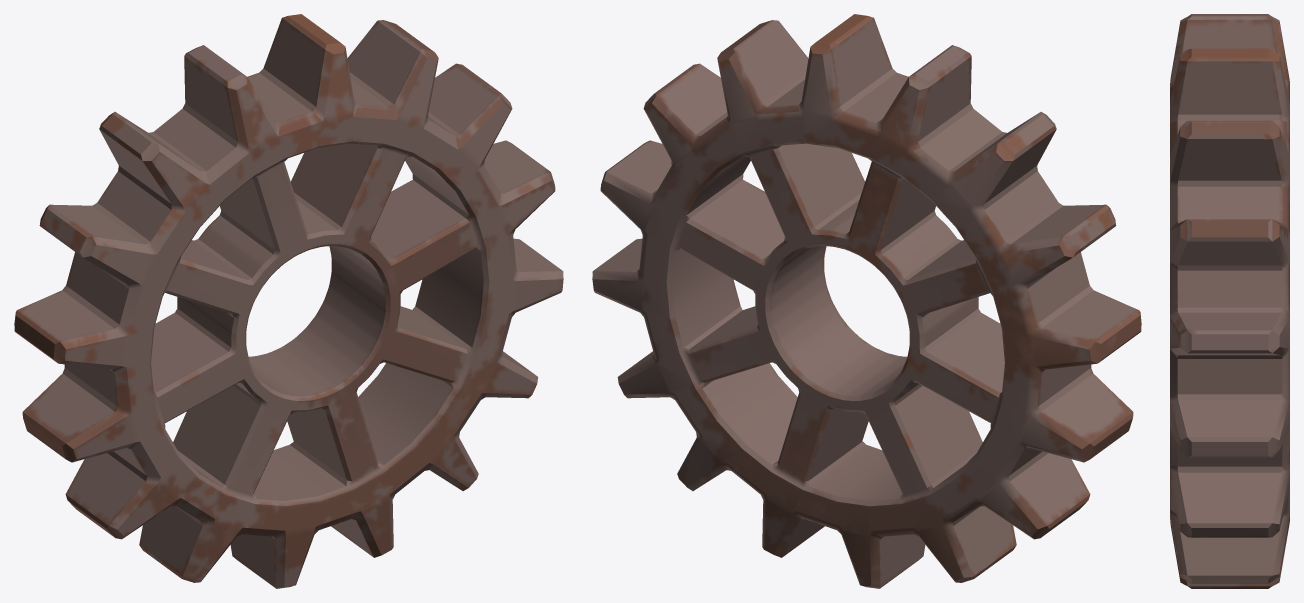
The model's file is rail_block_gear_01.fbx.
3 views of the same model, side by side, from view 1: azimuth 30°, elevation 25°; view 2: azimuth 150°, elevation 25°; view 3: azimuth 270°, elevation 25° (orthographic).
Visible parts, largest first — view 1: rail_gear_01; view 2: rail_gear_01; view 3: rail_gear_01.
Boxes of the visible parts, x1,y1,x2,y2 form: rail_gear_01: (14, 14, 563, 588); rail_gear_01: (592, 14, 1141, 588); rail_gear_01: (1170, 14, 1289, 588).
Size of the model in its own units: 0.781 by 0.781 by 0.1621.
